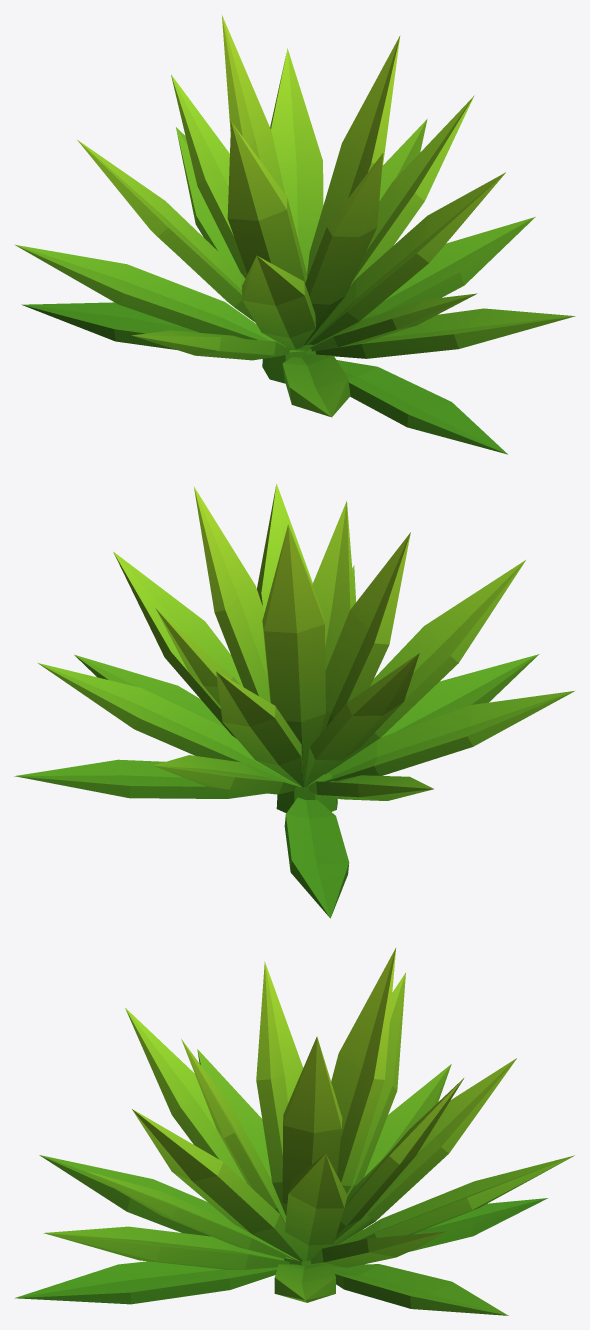
Rendered from grass_new.glb.
The picture shows the model from 3 angles, top to bottom: view 1: azimuth 30°, elevation 25°; view 2: azimuth 150°, elevation 25°; view 3: azimuth 270°, elevation 25°; orthographic projection. The views are drawn at different scales.
Visible parts, largest first — view 1: grass; view 2: grass; view 3: grass.
Part boxes in pixels (x1,y1,x2,y2): grass: [14, 15, 575, 454]; grass: [14, 483, 575, 918]; grass: [14, 947, 574, 1315].
Bounding box in the file's own units: 0.5117 × 0.3493 × 0.5572.
1 material, 1 textured.
